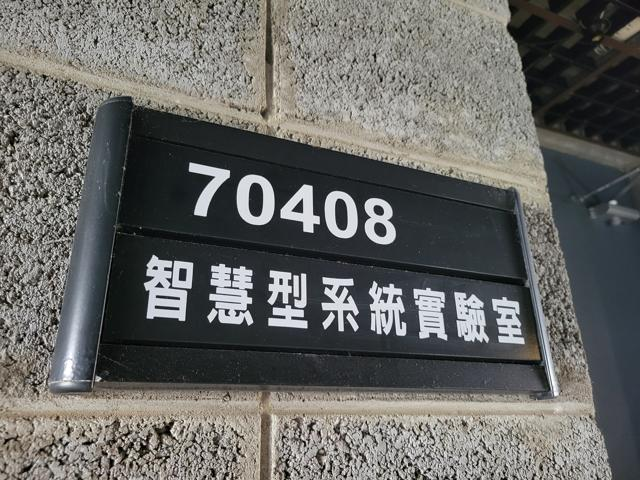doorplate: (38, 87, 573, 405)
